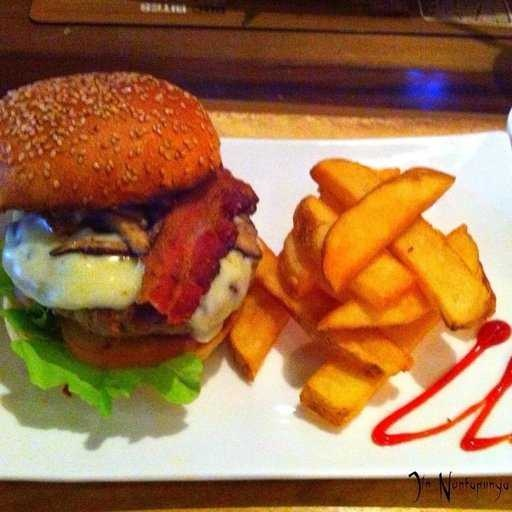hamburger: (1, 60, 268, 422)
